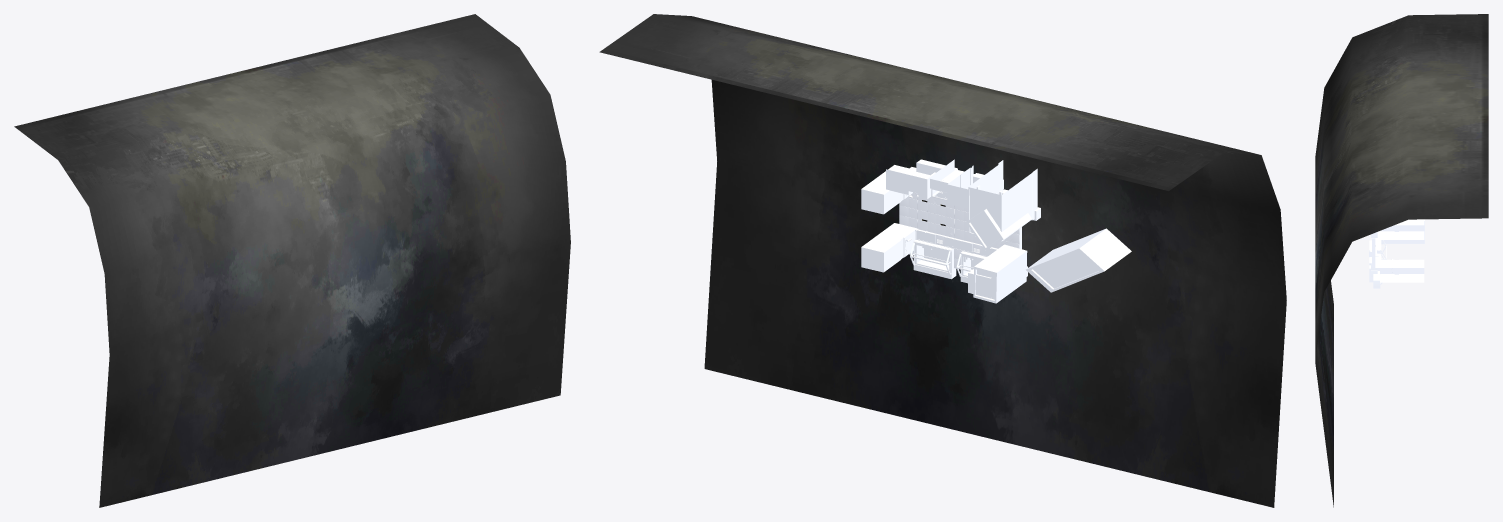
The model's file is BATTLE.fbx.
The picture shows the model from 3 angles, left to right: view 1: azimuth 30°, elevation 25°; view 2: azimuth 150°, elevation 25°; view 3: azimuth 270°, elevation 25°; orthographic projection. The views are drawn at different scales.
Parts seen in each view (by area): view 1: BG_Qcity; view 2: BG_Qcity, Shadow (5), S_Outworld_prop_0109, Shadow (4), S_Outworld_prop_0547, S_Outworld_prop_0442, S_Outworld_prop_015, OP_18, Shadow (1), S_Outworld_prop_0374; view 3: BG_Qcity, S_Outworld_prop_0547, S_Outworld_prop_0442.
Part boxes in pixels (x1,y1,x2,y2): BG_Qcity: (14,14,570,507); BG_Qcity: (599,14,1286,507); Shadow (5): (1026,228,1131,292); S_Outworld_prop_0109: (968,160,1037,241); Shadow (4): (973,244,1027,303); S_Outworld_prop_0547: (861,223,916,272); S_Outworld_prop_0442: (861,165,916,214); S_Outworld_prop_015: (886,159,954,199); OP_18: (913,240,956,279); Shadow (1): (966,209,1031,250); S_Outworld_prop_0374: (947,165,1001,208); BG_Qcity: (1315,14,1488,507); S_Outworld_prop_0547: (1375,259,1424,282); S_Outworld_prop_0442: (1375,219,1424,239).
Size of the model in its own units: 0.6164 by 0.4073 by 0.2212.
